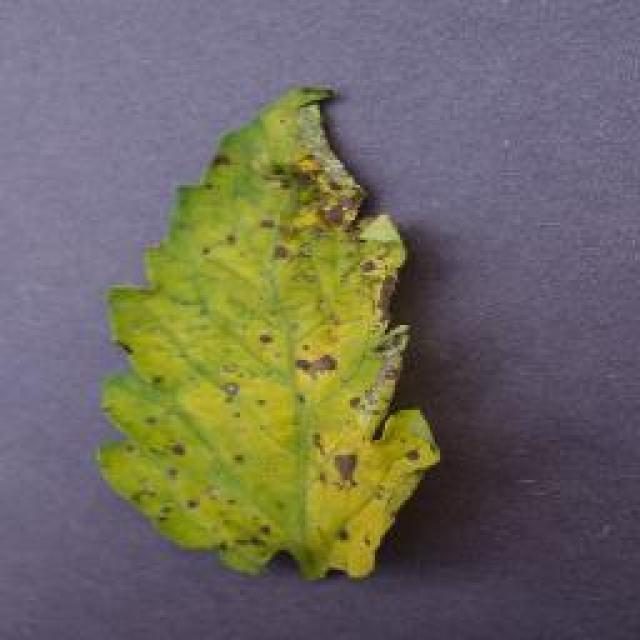Tomato Septoria spot leaf: (96, 85, 438, 587)
